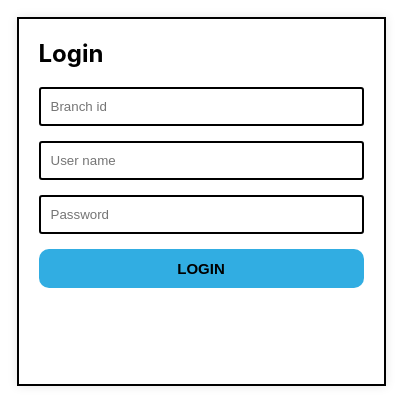
Scenario: Login Component › displays an error message on incorrect password login attempt
The width and height of the screenshot is (404, 404).
Type "10001" into the field with placeholder "Branch id" at [201, 107], box [38,87,364,126]
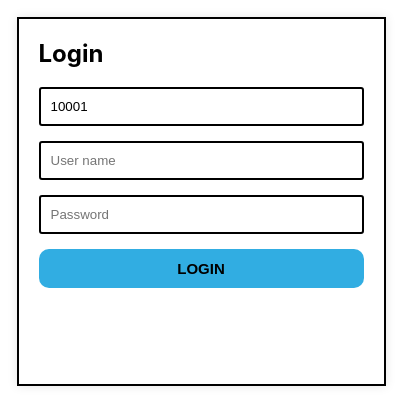
Type "testuser01" into the field with placeholder "User name" at [201, 161], box [38,141,364,180]
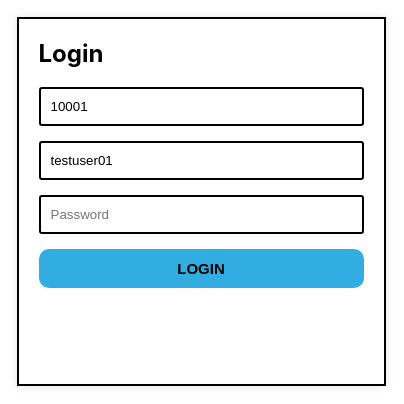
Type "invalidpassword" into the password field with placeholder "Password" at [201, 215], box [38,195,364,234]
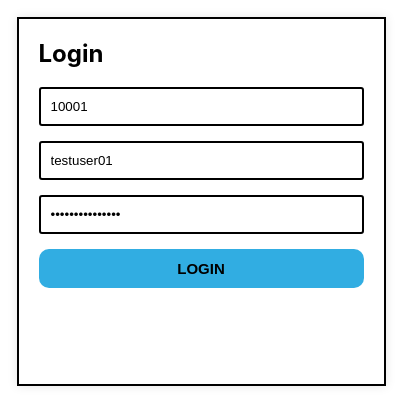
Click the button "Login" at [201, 269], box [38,249,364,288]
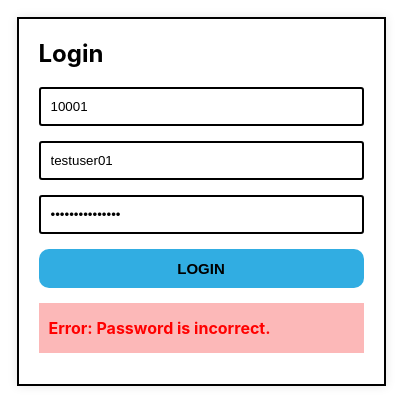
expect the text "Error: Password is incorrect." is shown: met, box [38,303,364,353]
